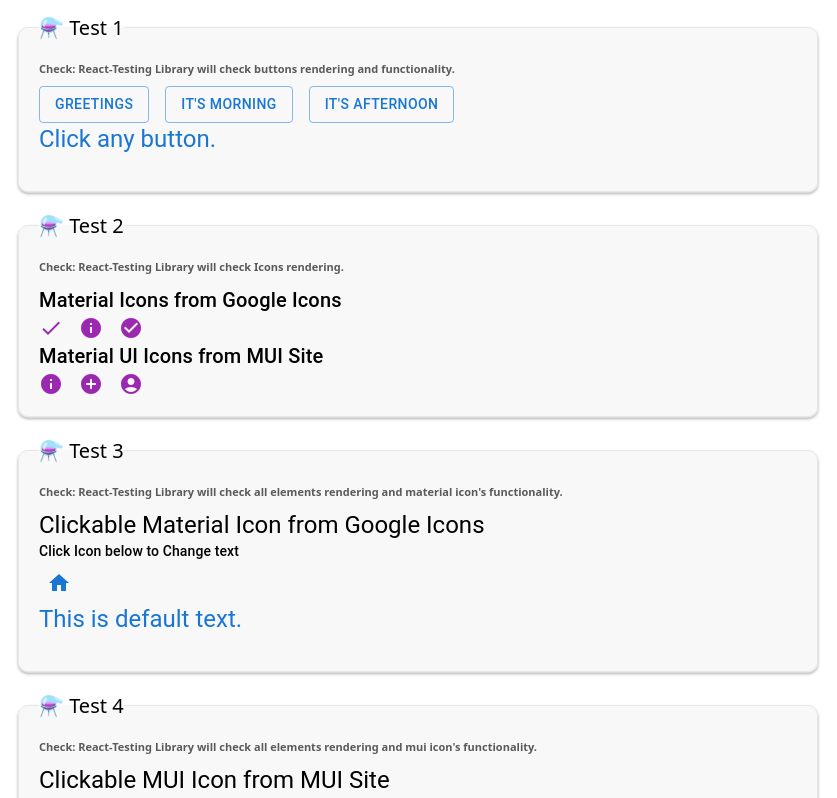
MaterialUIForm Component › should render MUI buttons, text and functionalities.
expect the heading with test id "mui-button-text" reads "Click any button.": met, box x1=39 y1=124 x2=216 y2=152
What coordinates should you click on to do the following:
click the button with test id "mui-button"
I would click on:
 (94, 104)
Its box is x1=39 y1=86 x2=149 y2=122.
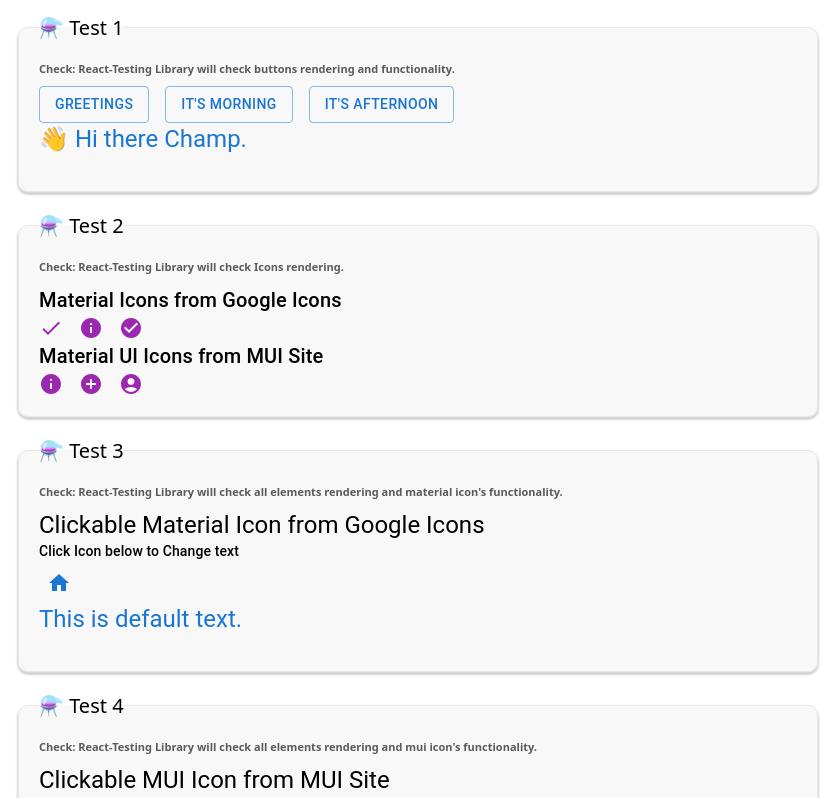
expect the heading with test id "mui-button-text" reads "👋 Hi there Champ.": met, box x1=39 y1=124 x2=247 y2=152
What coordinates should you click on to do the following:
click the button with test id "mui-button"
I would click on:
 (229, 104)
Its box is x1=165 y1=86 x2=293 y2=122.
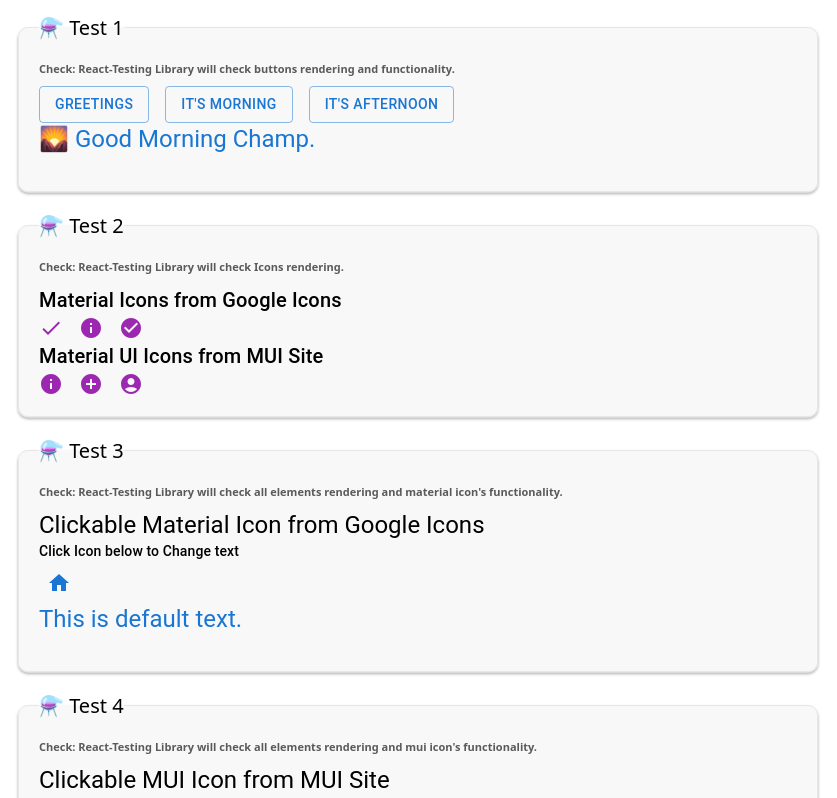
expect the heading with test id "mui-button-text" reads "🌄 Good Morning Champ.": met, box x1=39 y1=124 x2=315 y2=152
What coordinates should you click on to do the following:
click the button with test id "mui-button"
I would click on:
 (382, 104)
Its box is x1=309 y1=86 x2=454 y2=122.
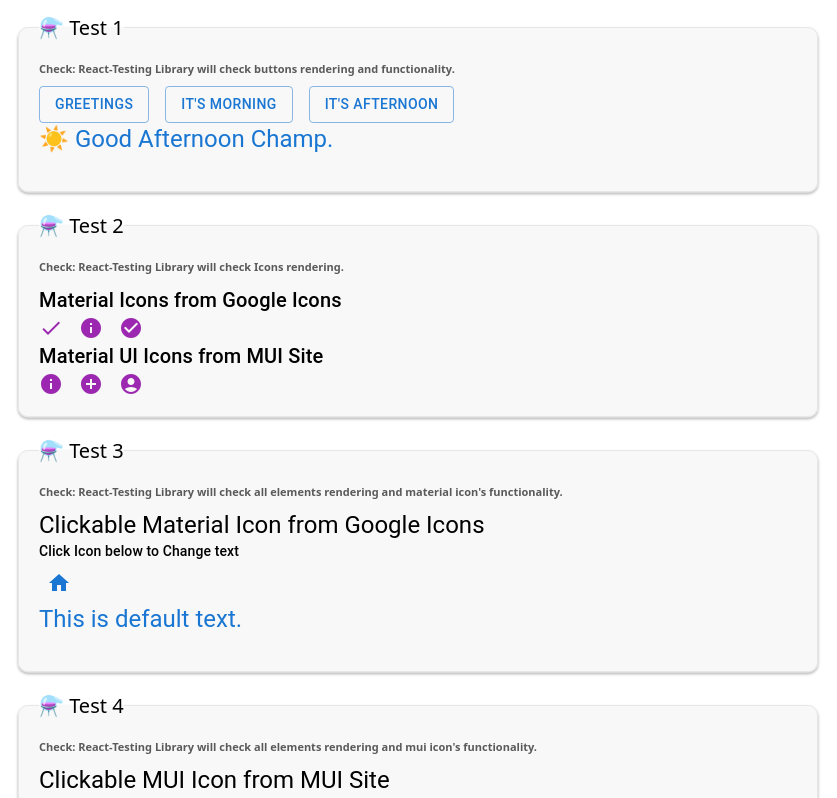
expect the heading with test id "mui-button-text" reads "☀️ Good Afternoon Champ.": met, box x1=39 y1=124 x2=333 y2=152
